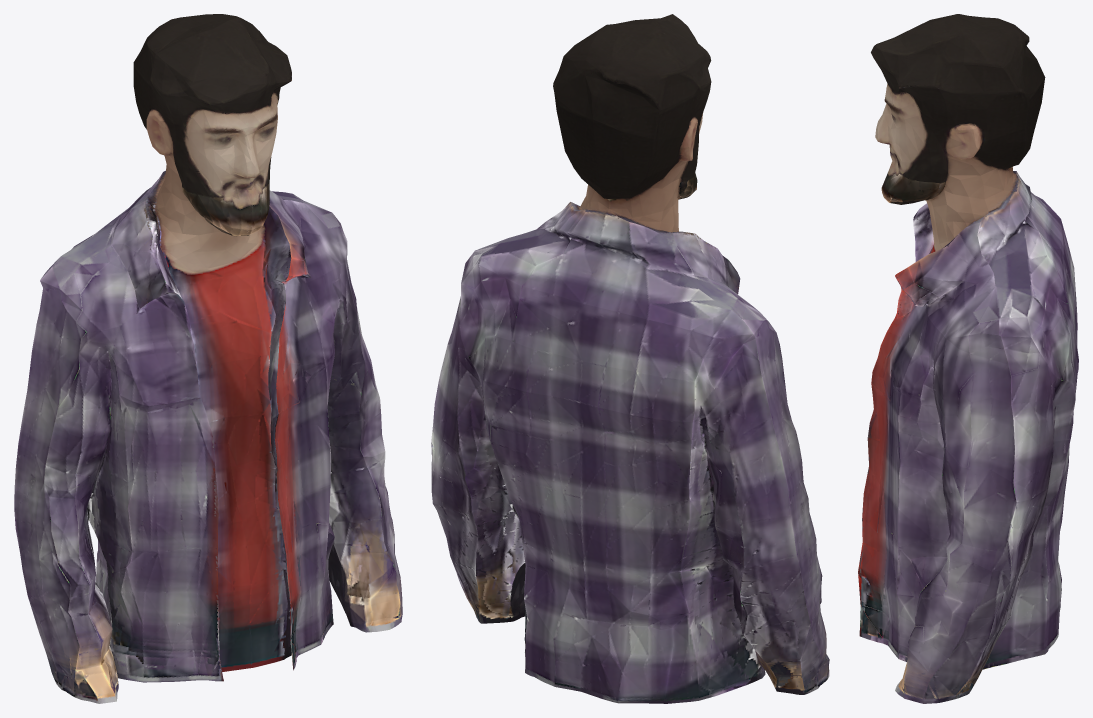
The model's file is step_17.glb.
3 views of the same model, side by side, from view 1: azimuth 30°, elevation 25°; view 2: azimuth 150°, elevation 25°; view 3: azimuth 270°, elevation 25° (orthographic). The views are drawn at different scales.
Parts seen in each view (by area): view 1: geometry_0; view 2: geometry_0; view 3: geometry_0.
Boxes of the visible parts, x1=… form: geometry_0: x1=14, y1=14, x2=402, y2=703; geometry_0: x1=431, y1=14, x2=829, y2=703; geometry_0: x1=858, y1=14, x2=1078, y2=703.
Bounding box in the file's own units: 0.5061 × 0.8284 × 0.2754.
Materials: 1 (1 with a texture image).
